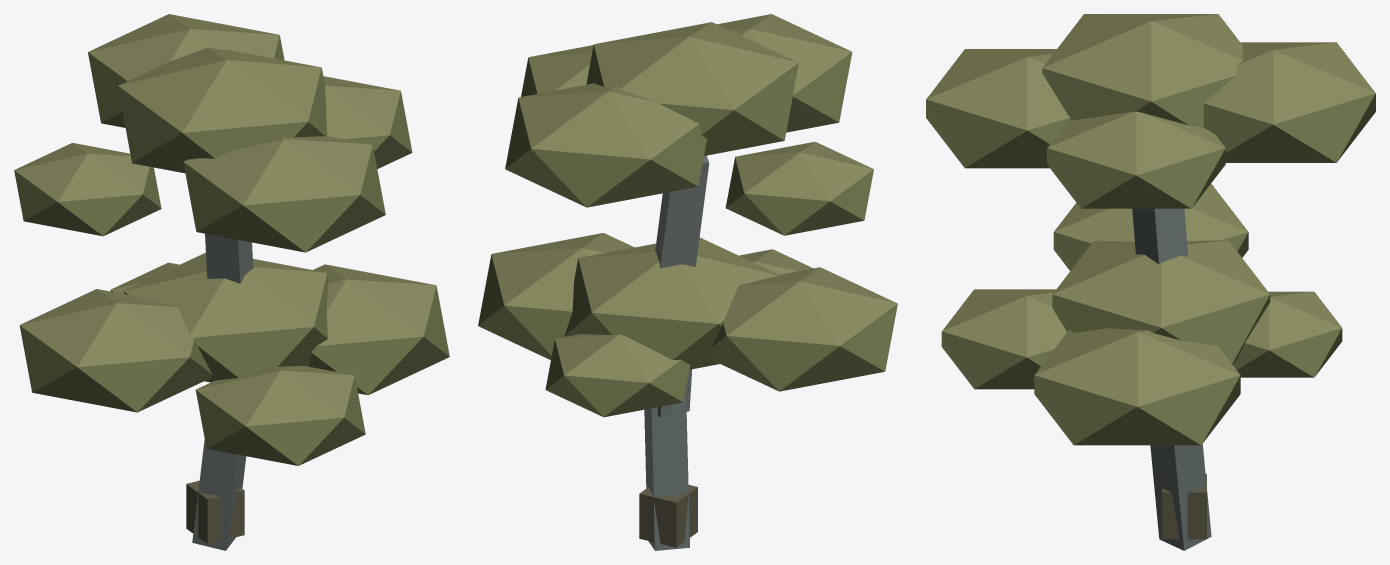
File: SM_Pino_v3_LOD1.fbx
3 views of the same model, side by side, from view 1: azimuth 30°, elevation 25°; view 2: azimuth 150°, elevation 25°; view 3: azimuth 270°, elevation 25° (orthographic). The views are drawn at different scales.
Visible parts, largest first — view 1: SM_pino_v3_LOD1; view 2: SM_pino_v3_LOD1; view 3: SM_pino_v3_LOD1.
Part boxes in pixels (x1,y1,x2,y2): SM_pino_v3_LOD1: (14,14,449,550); SM_pino_v3_LOD1: (478,14,897,550); SM_pino_v3_LOD1: (926,14,1375,550).
Size of the model in its own units: 9.31 by 11.06 by 8.72.
